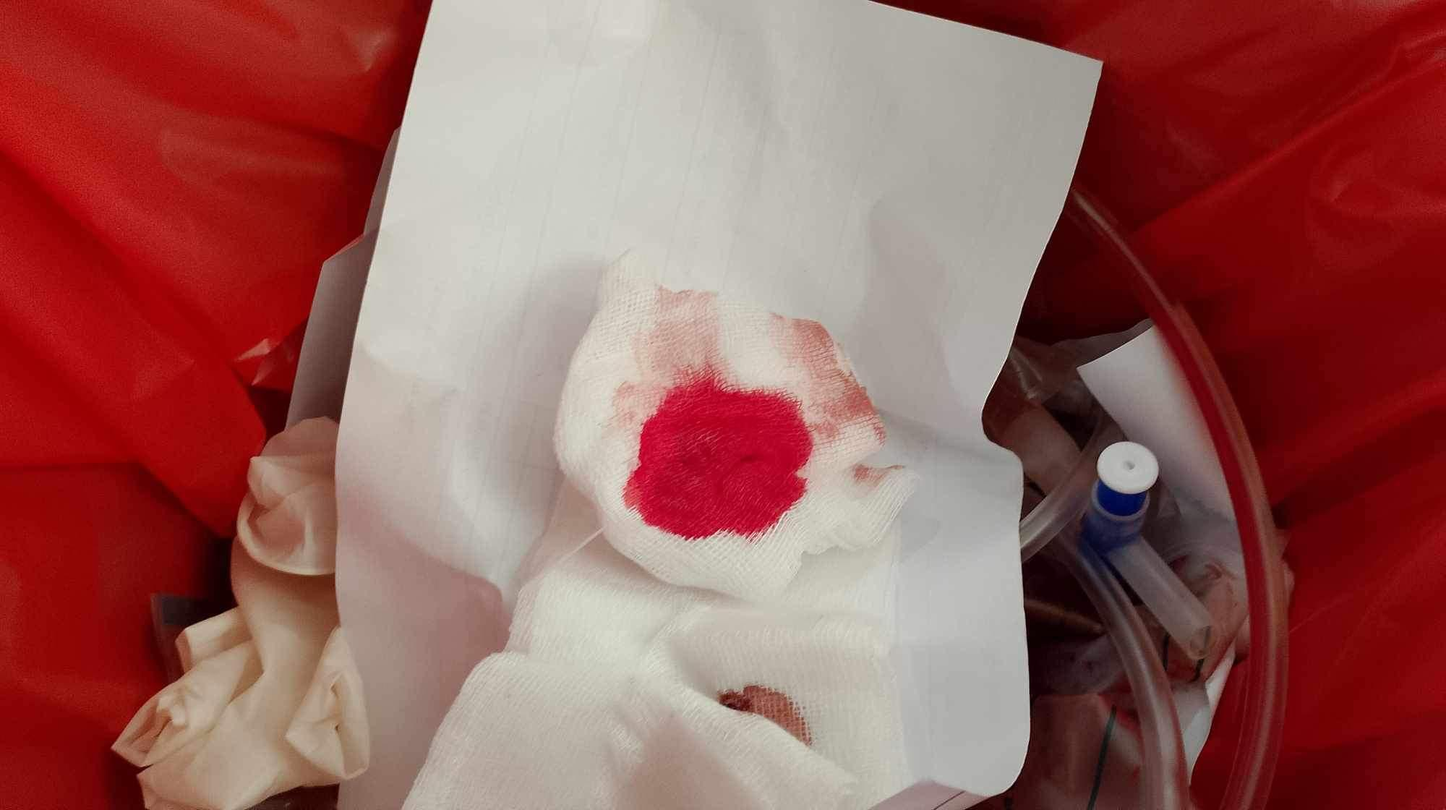Infectious: (330, 0, 1100, 808), (550, 247, 916, 604), (110, 413, 370, 808)
Sharps: (1077, 439, 1215, 663)
